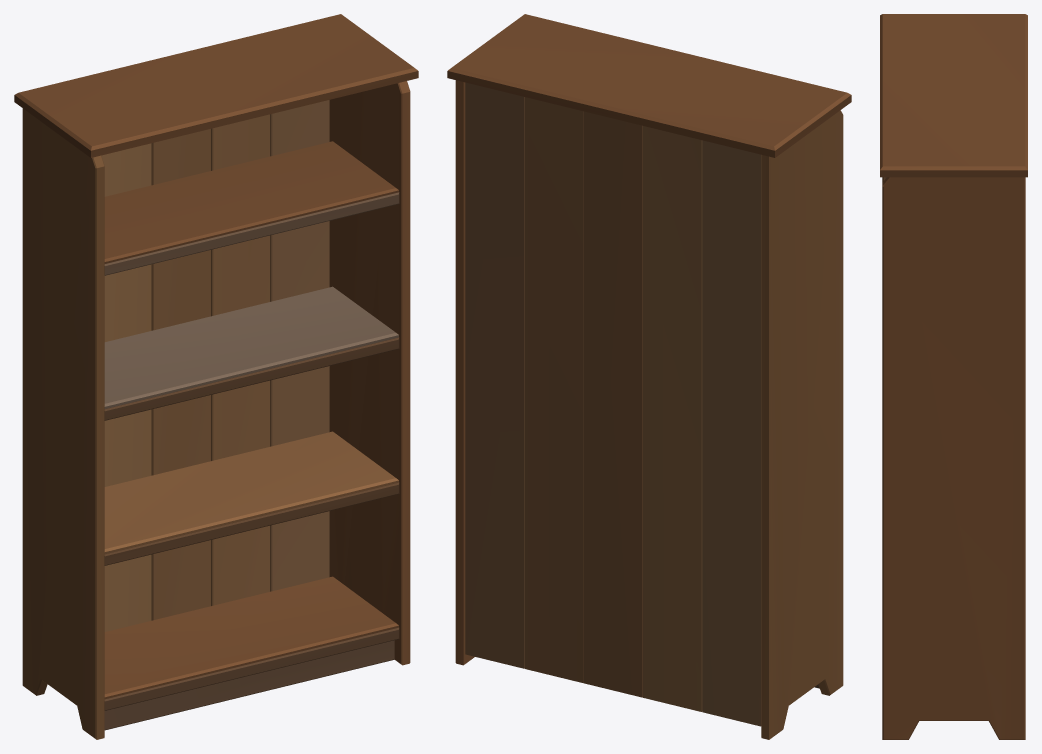
File: wooden_shelf_01.glb
The picture shows the model from 3 angles, left to right: view 1: azimuth 30°, elevation 25°; view 2: azimuth 150°, elevation 25°; view 3: azimuth 270°, elevation 25°; orthographic projection. The views are drawn at different scales.
Parts seen in each view (by area): view 1: wooden_shelf_01_body; view 2: wooden_shelf_01_body; view 3: wooden_shelf_01_body.
Part boxes in pixels (box(x1,y1,x2,y2)): wooden_shelf_01_body: box(14, 14, 418, 739); wooden_shelf_01_body: box(447, 14, 851, 739); wooden_shelf_01_body: box(880, 14, 1027, 739).
Bounding box in the file's own units: 1.04 × 1.8 × 0.42.
